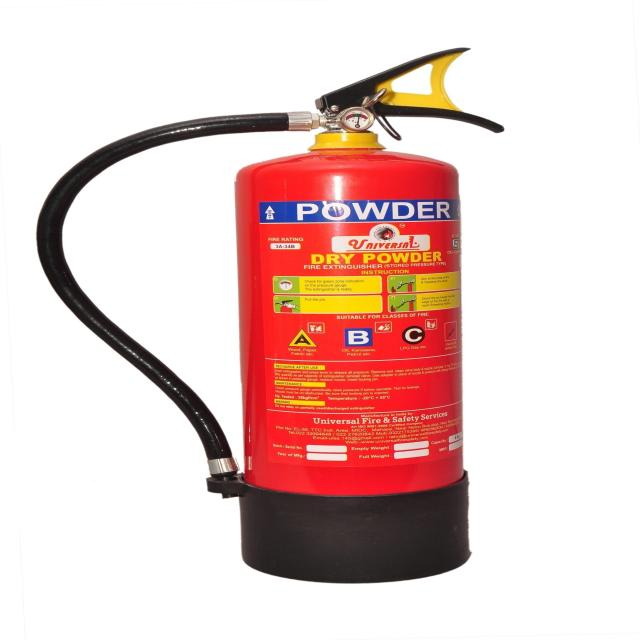fire_extinguisher: (27, 42, 511, 591)
